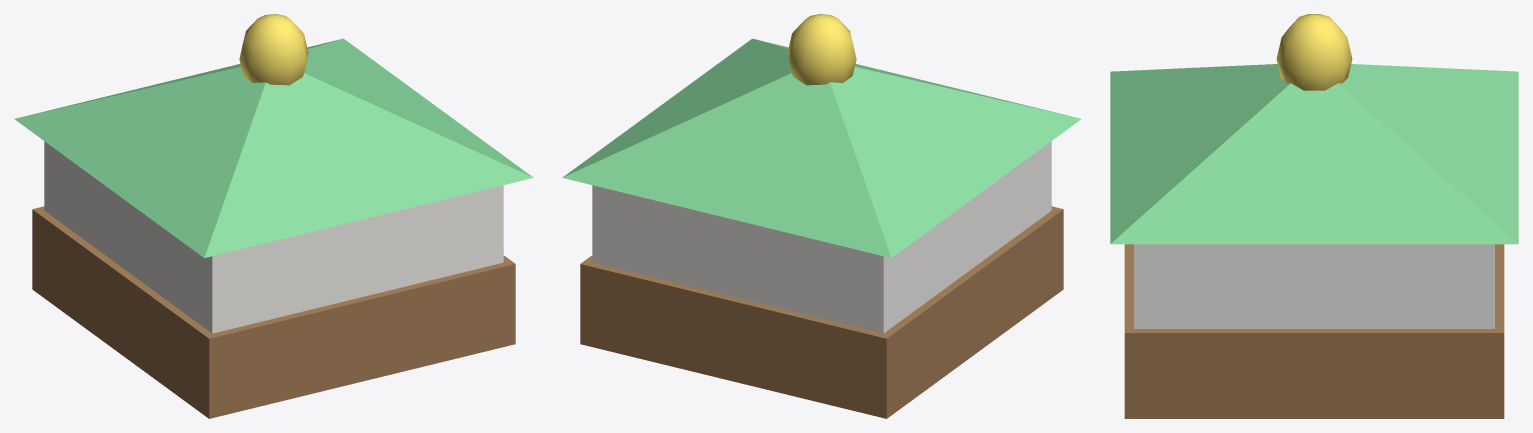
File: Bld_Surau.fbx
The picture shows the model from 3 angles, left to right: view 1: azimuth 30°, elevation 25°; view 2: azimuth 150°, elevation 25°; view 3: azimuth 270°, elevation 25°; orthographic projection. The views are drawn at different scales.
Parts seen in each view (by area): view 1: Bld_Surau; view 2: Bld_Surau; view 3: Bld_Surau.
Boxes of the visible parts, x1,y1,x2,y2 form: Bld_Surau: (14,14,533,418); Bld_Surau: (562,14,1081,418); Bld_Surau: (1110,14,1518,418).
Bounding box in the file's own units: 8.6 × 7.5 × 8.6.
